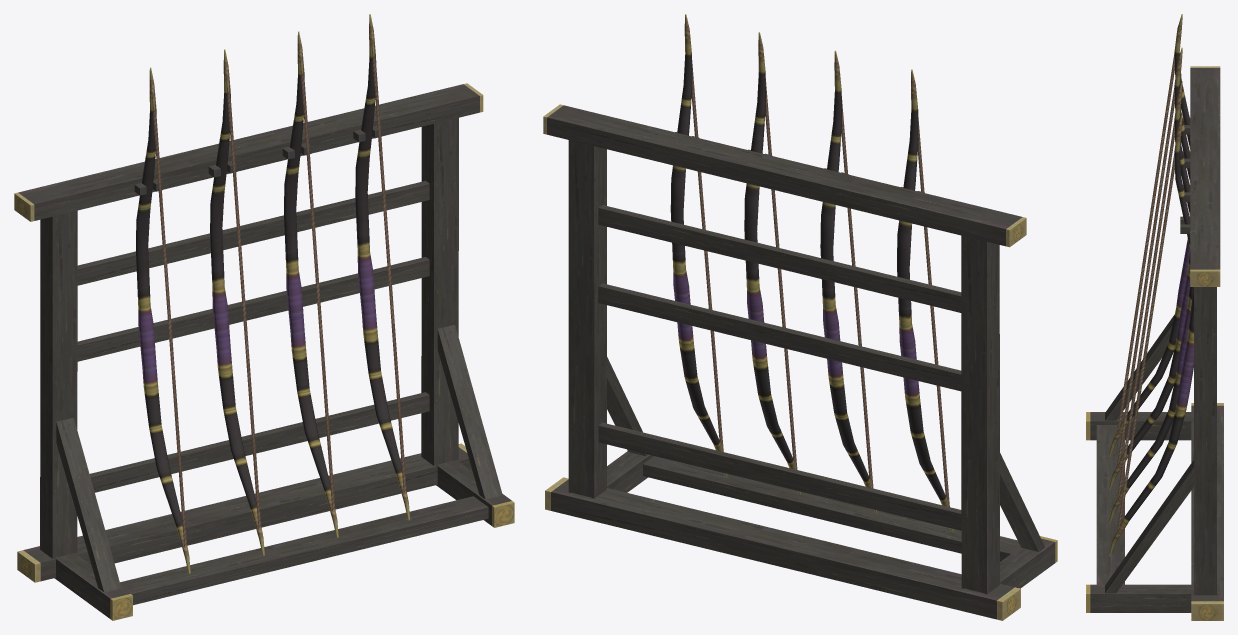
File: Homeworld_Exterior_Dq_Decoration_BowframeTS_01_Lod0.fbx
3 renders of one model, left to right at view 1: azimuth 30°, elevation 25°; view 2: azimuth 150°, elevation 25°; view 3: azimuth 270°, elevation 25°, orthographic. The views are drawn at different scales.
Parts seen in each view (by area): view 1: Area_Dq_Prop_MS_BowframeTS_01_Lod0; view 2: Area_Dq_Prop_MS_BowframeTS_01_Lod0; view 3: Area_Dq_Prop_MS_BowframeTS_01_Lod0.
Boxes of the visible parts, left/top/right/bottom form: Area_Dq_Prop_MS_BowframeTS_01_Lod0: left=14, top=14, right=514, bottom=620; Area_Dq_Prop_MS_BowframeTS_01_Lod0: left=543, top=14, right=1057, bottom=620; Area_Dq_Prop_MS_BowframeTS_01_Lod0: left=1086, top=14, right=1223, bottom=620.
Bounding box in the file's own units: 1.84 × 1.92 × 0.5246.
